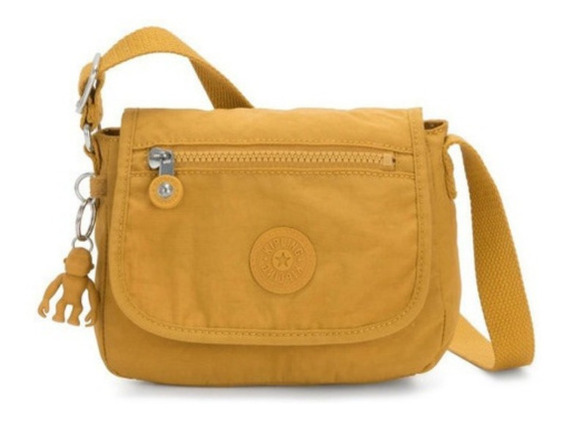cartera: (72, 26, 539, 392)
